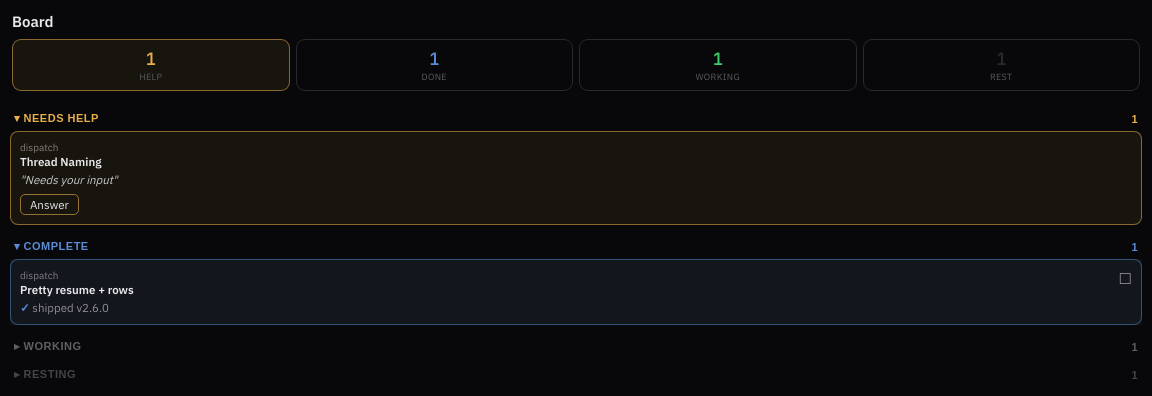
Scenario: BoardMobile — manual override via long-press › a long-press (contextmenu) on a card opens the override menu with the three targets
Step 1. Right-click the text "Thread Naming" → (61,162), box [20,154,102,169]
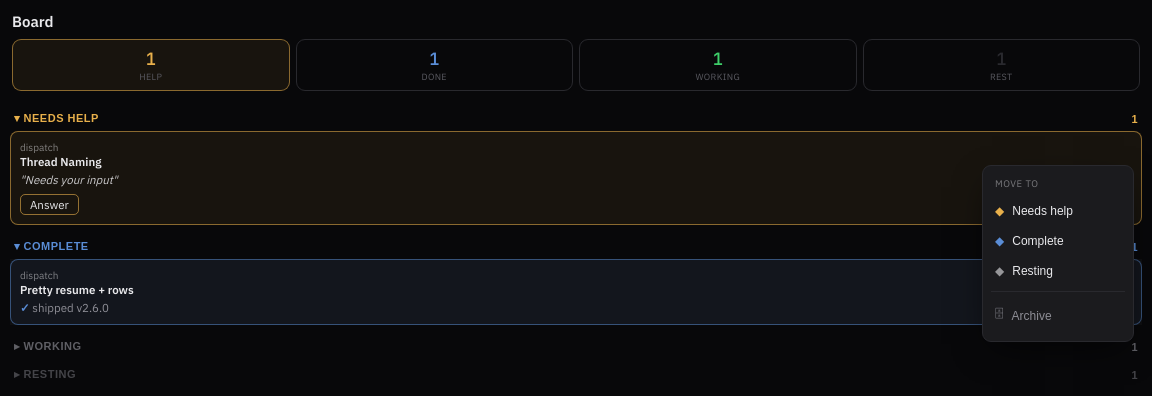
Check: the button "◆ Needs help" is shown, box [983,196,1133,226]
Check: the button "◆ Complete" is shown, box [983,226,1133,256]
Check: the button "◆ Resting" is shown, box [983,256,1133,286]
